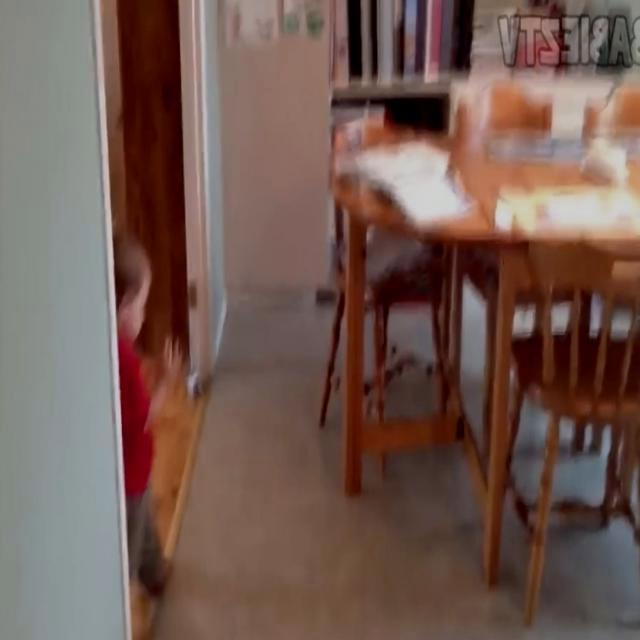child: (110, 234, 184, 592)
